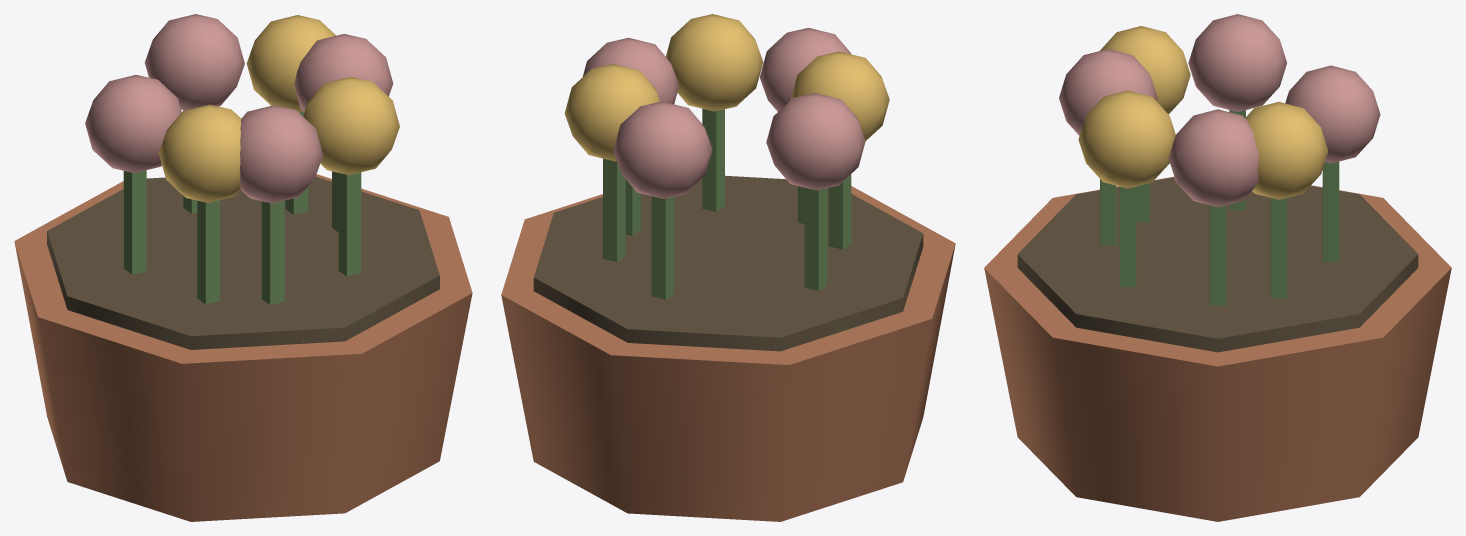
File: planter-1.glb
3 renders of one model, left to right at view 1: azimuth 30°, elevation 25°; view 2: azimuth 150°, elevation 25°; view 3: azimuth 270°, elevation 25°, orthographic.
Visible parts, largest first — view 1: planter-1-0; view 2: planter-1-0; view 3: planter-1-0.
Part boxes in pixels (x1=…): planter-1-0: x1=14, y1=14, x2=472, y2=521; planter-1-0: x1=501, y1=14, x2=955, y2=521; planter-1-0: x1=984, y1=14, x2=1451, y2=521.
Size of the model in its own units: 0.7 by 0.614 by 0.7.
